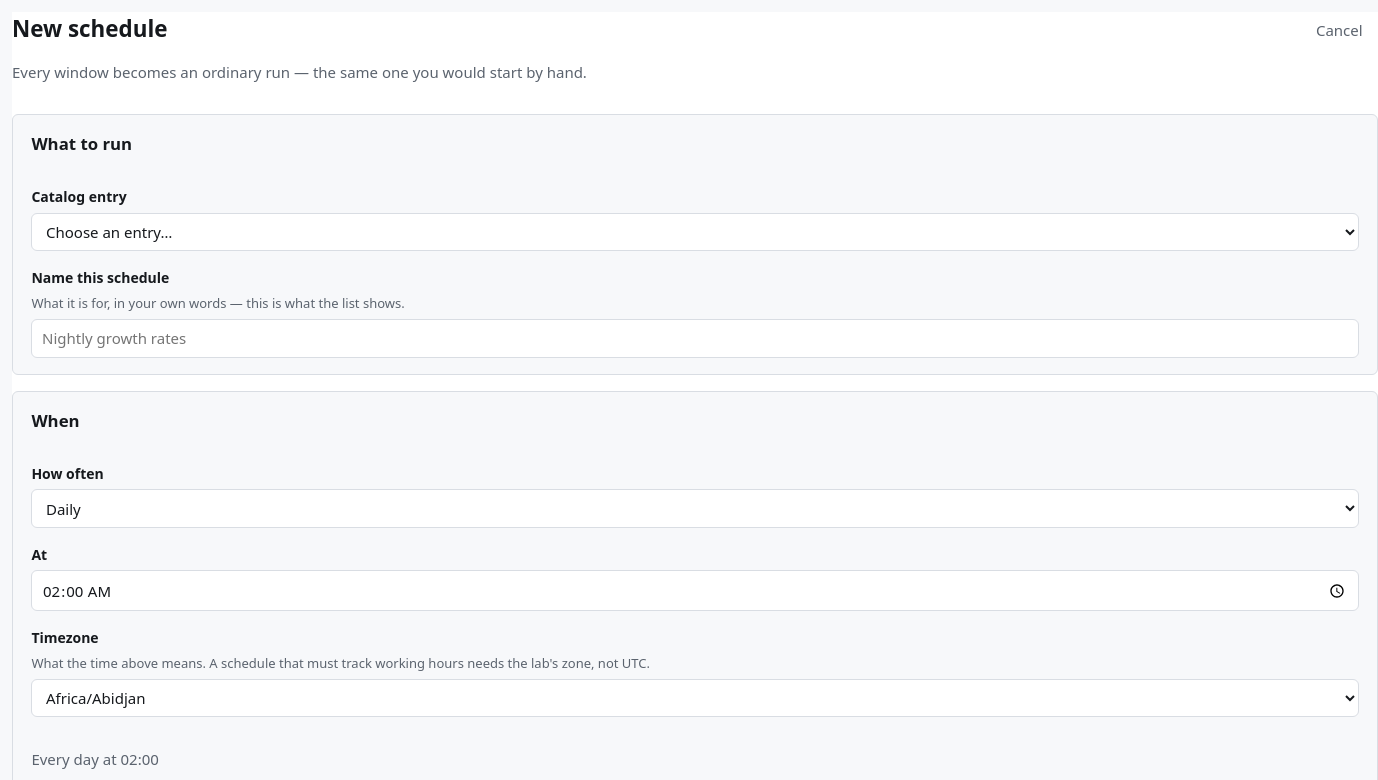
Test case: composing a schedule › fills in the entry's own form, not a generic one
Select "OD600 growth rates (od600)" in the dropdown labelled "Catalog entry" at (695, 232), box [31,213,1359,251]
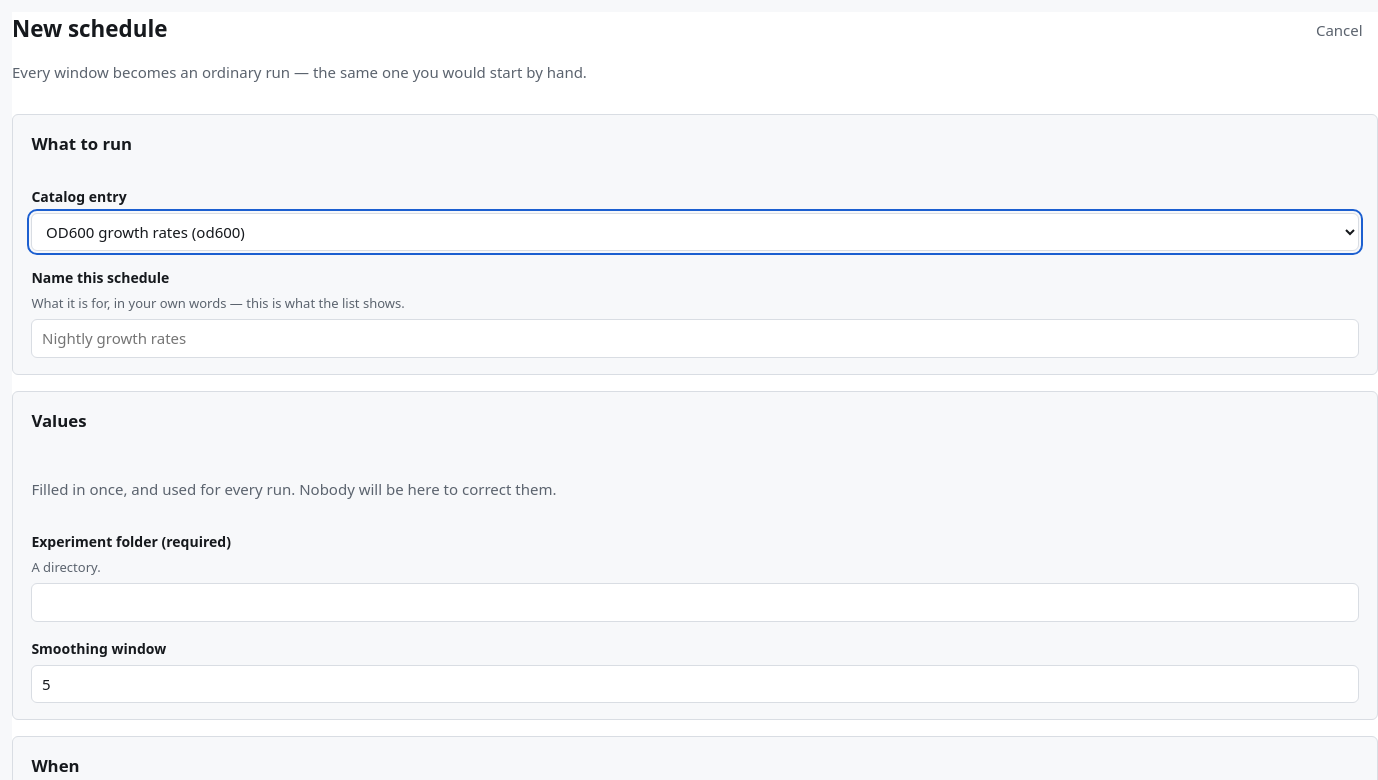
Expected: the field labelled "Experiment folder (required)" is shown, [31,583,1359,622]
Expected: the number field labelled "Smoothing window" holds "5", [31,664,1359,703]
